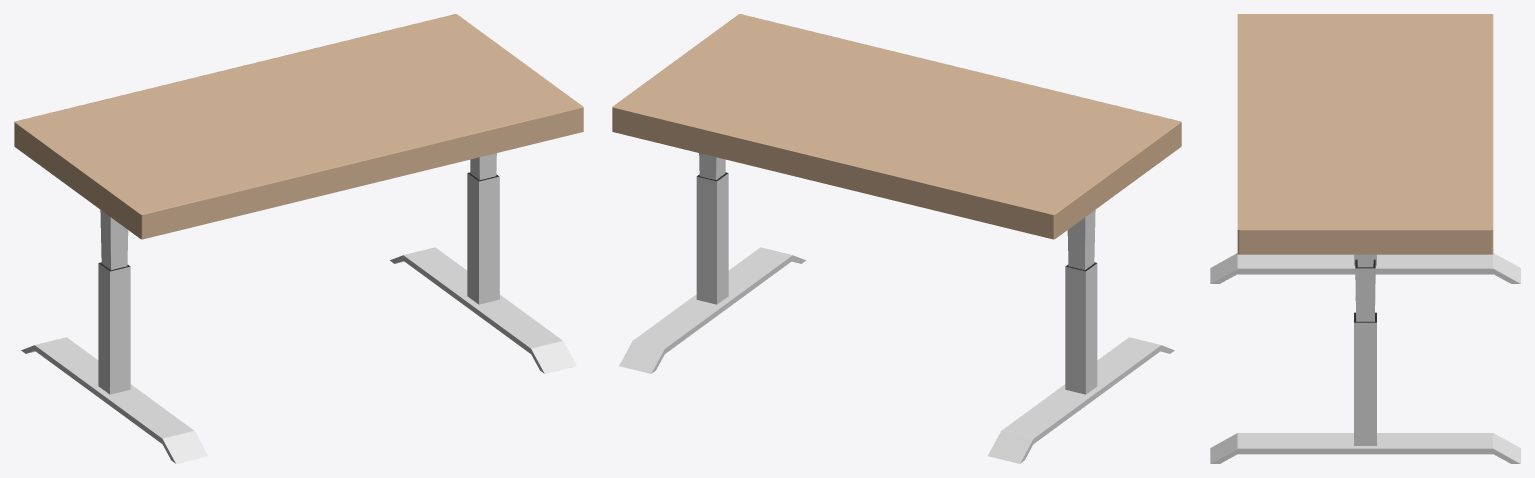
The model's file is Table.gltf.
3 views of the same model, side by side, from view 1: azimuth 30°, elevation 25°; view 2: azimuth 150°, elevation 25°; view 3: azimuth 270°, elevation 25° (orthographic).
Parts seen in each view (by area): view 1: TableTop, TbaleFoot, TableLeg; view 2: TableTop, TbaleFoot, TableLeg; view 3: TableTop, TbaleFoot, TableLeg.
Boxes of the visible parts, x1,y1,x2,y2 form: TableTop: [14, 14, 583, 239]; TbaleFoot: [21, 247, 576, 463]; TableLeg: [98, 153, 499, 394]; TableTop: [612, 14, 1181, 239]; TbaleFoot: [619, 247, 1174, 463]; TableLeg: [696, 153, 1097, 394]; TableTop: [1237, 14, 1493, 254]; TbaleFoot: [1210, 253, 1520, 463]; TableLeg: [1354, 254, 1376, 445].
Size of the model in its own units: 6 by 3.16 by 3.65.
